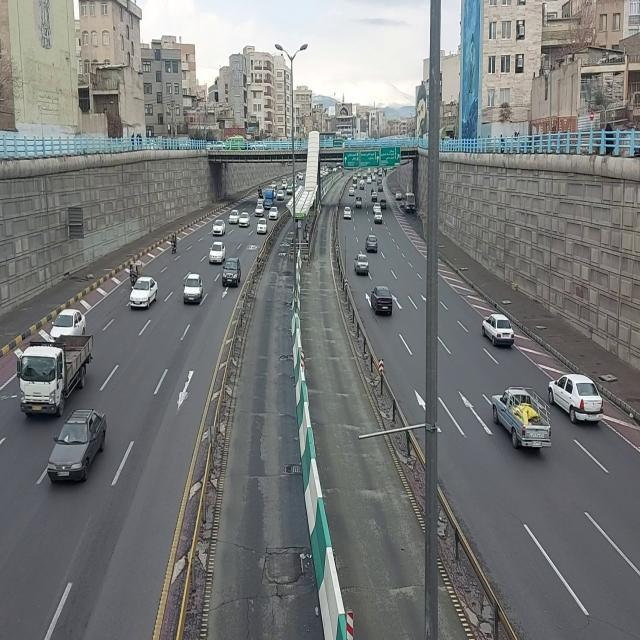Car: (46, 405, 112, 486), (549, 371, 607, 429), (48, 308, 88, 344), (482, 312, 516, 348), (129, 276, 160, 312), (371, 284, 394, 318), (182, 271, 204, 303), (222, 256, 242, 289), (209, 239, 227, 265), (354, 253, 370, 276), (212, 219, 226, 237), (365, 235, 377, 254), (256, 216, 268, 234), (229, 210, 241, 226), (239, 212, 251, 228), (269, 205, 280, 221), (255, 203, 266, 219), (374, 209, 384, 225), (343, 205, 353, 220), (276, 190, 284, 202), (257, 194, 265, 205), (380, 199, 387, 211), (287, 185, 294, 197), (373, 202, 381, 212), (395, 191, 402, 201), (371, 192, 377, 202), (349, 187, 355, 197), (281, 180, 288, 188), (378, 184, 384, 193), (298, 172, 304, 181), (272, 181, 278, 189), (367, 176, 371, 184), (377, 178, 381, 186), (363, 173, 367, 181)
Motorcycle: (129, 258, 143, 288), (171, 229, 179, 257), (258, 184, 262, 196), (385, 169, 388, 177)
Pickup: (491, 386, 552, 455), (265, 188, 275, 210), (355, 195, 363, 210), (359, 180, 365, 191), (352, 179, 358, 189)
Truck: (19, 330, 93, 421)
